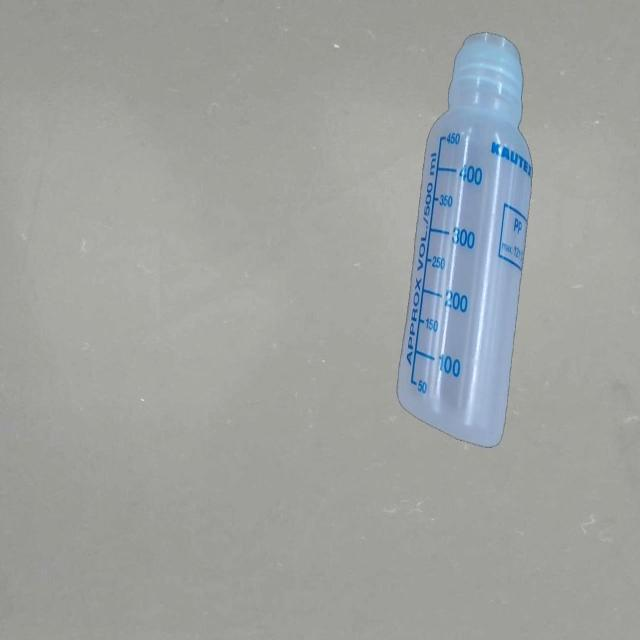bottle: (399, 32, 533, 447)
